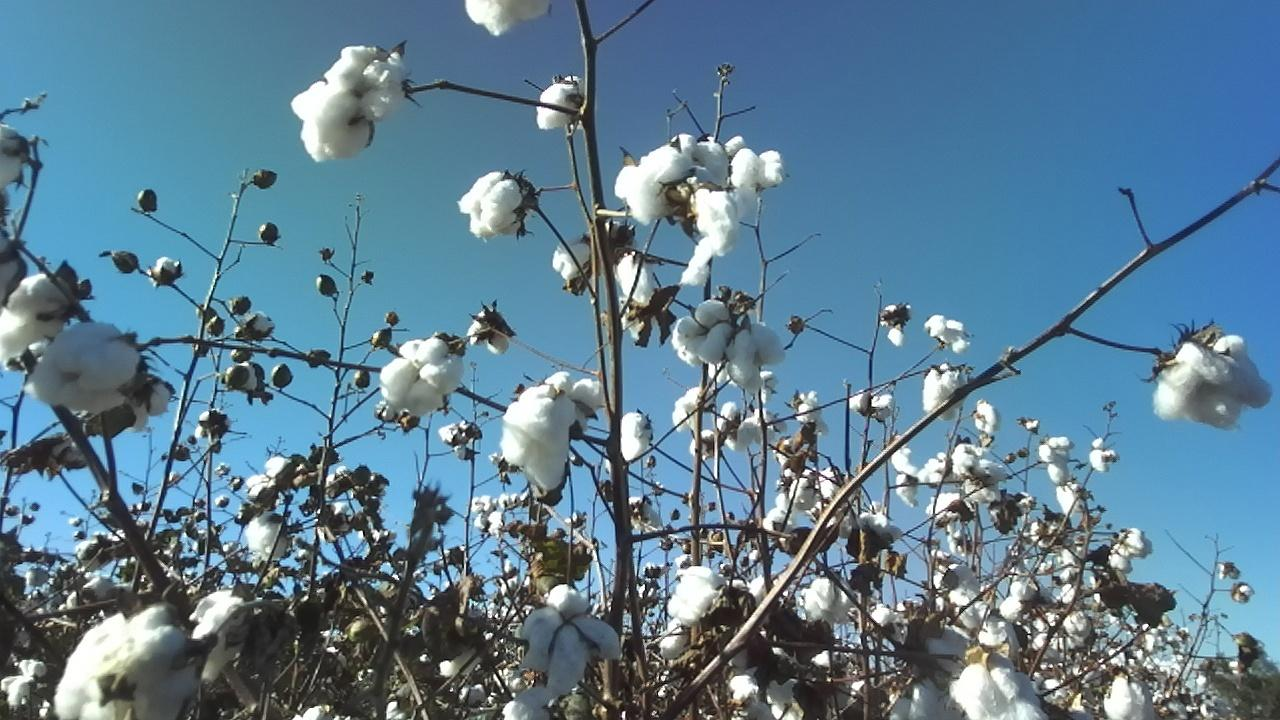cotton_ready: (615, 134, 787, 286), (55, 604, 207, 720), (292, 44, 412, 165), (1152, 333, 1273, 435), (517, 584, 624, 696), (28, 320, 147, 413), (0, 268, 82, 372), (501, 384, 573, 490), (383, 335, 467, 414), (190, 590, 249, 682), (953, 663, 1046, 720), (457, 171, 532, 239), (725, 326, 788, 392), (671, 300, 733, 366), (910, 625, 969, 692), (667, 565, 731, 624), (464, 0, 557, 39), (546, 371, 607, 429), (887, 679, 969, 720), (921, 363, 969, 423), (806, 574, 855, 627), (728, 666, 772, 720), (551, 235, 598, 283), (245, 514, 293, 561), (466, 309, 510, 355), (0, 232, 26, 309), (1103, 677, 1149, 720), (620, 253, 657, 305), (766, 680, 806, 720), (0, 124, 24, 189)
